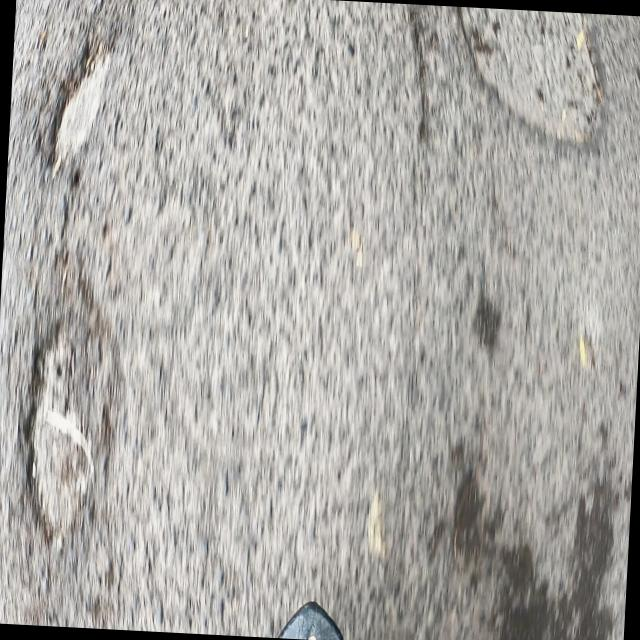Lubang: (461, 7, 601, 141), (33, 333, 94, 549), (56, 53, 110, 162)
